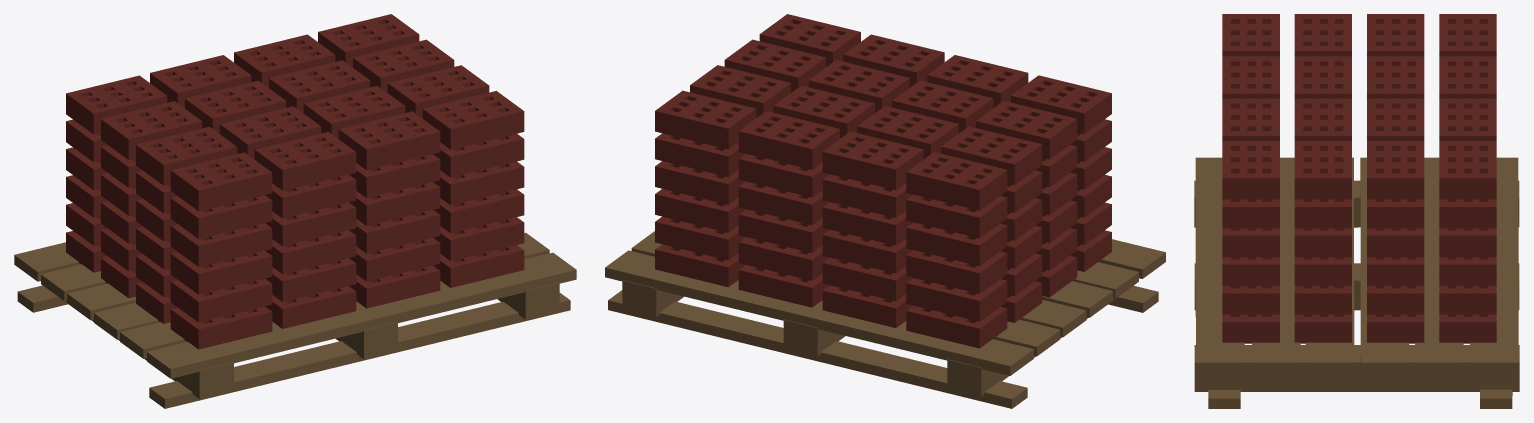
The model's file is BrickStacks_1.fbx.
The picture shows the model from 3 angles, left to right: view 1: azimuth 30°, elevation 25°; view 2: azimuth 150°, elevation 25°; view 3: azimuth 270°, elevation 25°; orthographic projection. The views are drawn at different scales.
Parts seen in each view (by area): view 1: BrickStacks_1; view 2: BrickStacks_1; view 3: BrickStacks_1.
Part boxes in pixels (x1,y1,x2,y2): BrickStacks_1: (14, 14, 576, 408); BrickStacks_1: (605, 14, 1165, 408); BrickStacks_1: (1194, 14, 1519, 408).
Bounding box in the file's own units: 193 × 92.56 × 129.
